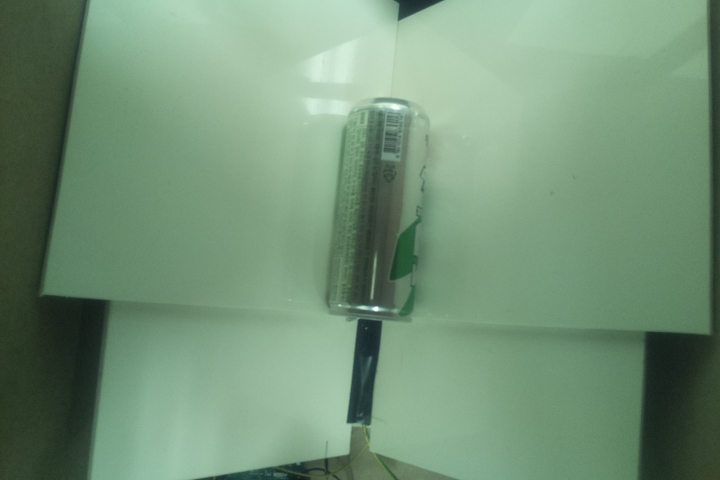can: (327, 95, 428, 326)
